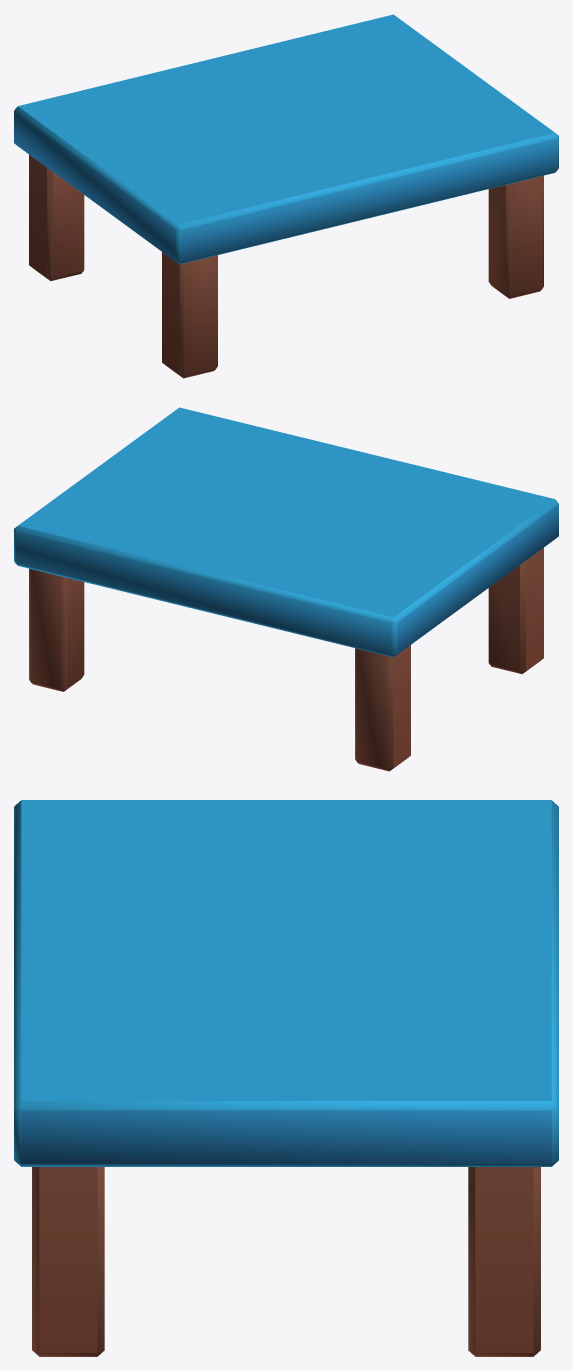
Rendered from kaykit-prototype-bits-table-medium.glb.
The picture shows the model from 3 angles, top to bottom: view 1: azimuth 30°, elevation 25°; view 2: azimuth 150°, elevation 25°; view 3: azimuth 270°, elevation 25°; orthographic projection. The views are drawn at different scales.
Parts seen in each view (by area): view 1: table_medium; view 2: table_medium; view 3: table_medium.
Boxes of the visible parts, bbox=[...] form: table_medium: bbox=[14, 14, 558, 378]; table_medium: bbox=[14, 407, 558, 771]; table_medium: bbox=[14, 800, 558, 1356].
Size of the model in its own units: 2 by 0.7999 by 1.5.
Materials: 1 (1 with a texture image).
